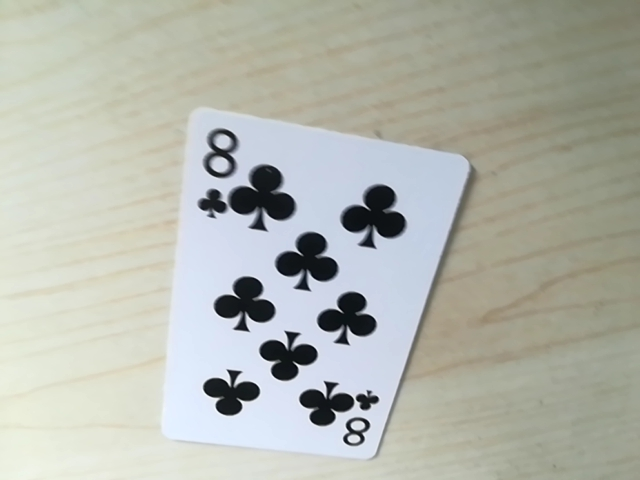mh 8: (190, 118, 247, 220), (328, 395, 380, 455)
